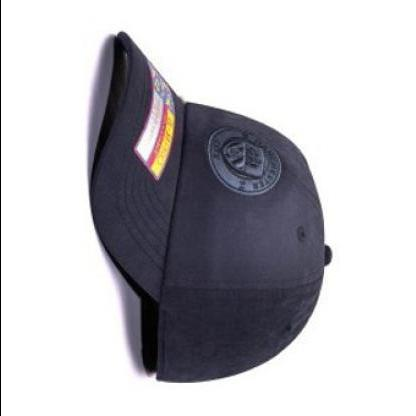cap: (86, 28, 336, 389)
